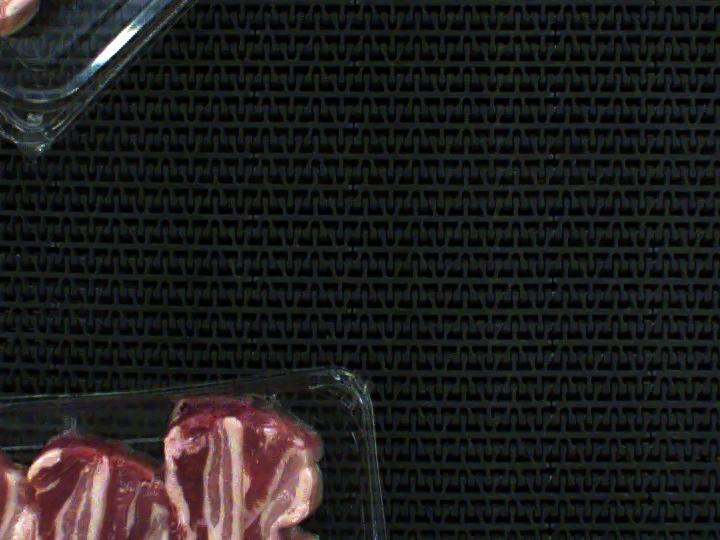packaging-error: (115, 368, 330, 437)
